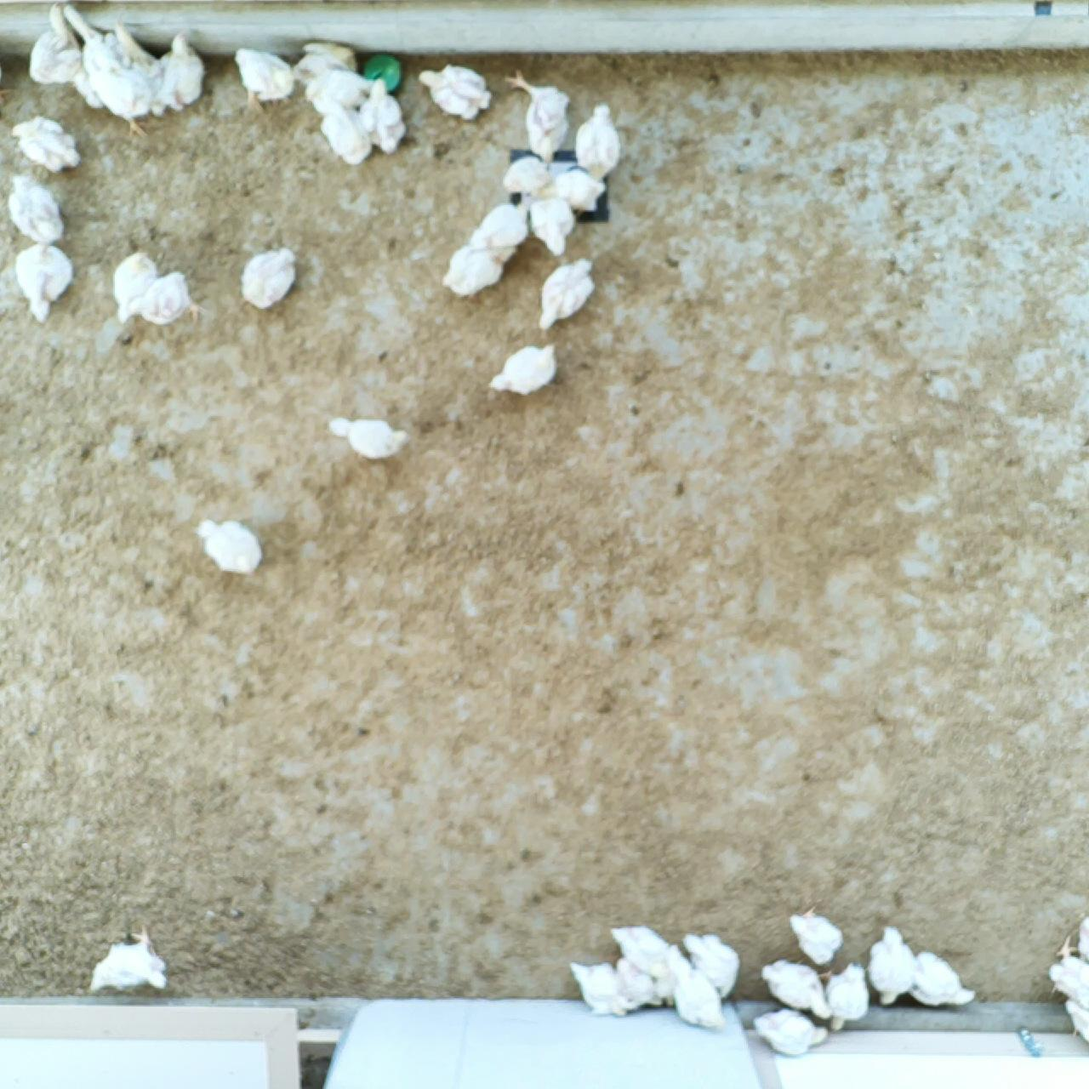chicken: (499, 66, 573, 169), (78, 920, 178, 996), (74, 61, 165, 136), (116, 265, 210, 335), (662, 944, 730, 1031), (415, 56, 497, 127), (10, 237, 76, 322), (437, 240, 521, 304), (759, 956, 838, 1024), (230, 42, 299, 117), (535, 256, 599, 336), (903, 947, 978, 1015), (109, 20, 165, 110), (154, 25, 210, 115), (4, 112, 83, 175), (679, 923, 744, 998), (488, 340, 565, 403), (237, 240, 301, 315), (358, 76, 415, 160), (27, 0, 81, 88), (2, 172, 66, 246), (192, 516, 267, 579), (865, 919, 918, 1008), (317, 88, 376, 167), (327, 411, 414, 463), (294, 57, 376, 111), (533, 161, 612, 217), (571, 101, 623, 185), (754, 1006, 836, 1059), (58, 1, 124, 66), (784, 898, 845, 966), (606, 921, 675, 978), (1043, 927, 1089, 1011), (826, 956, 875, 1032), (567, 952, 626, 1015), (467, 202, 533, 257), (527, 191, 581, 258), (288, 38, 364, 80), (112, 249, 160, 315), (610, 952, 663, 1009), (496, 148, 556, 198), (1062, 993, 1089, 1047), (1074, 915, 1089, 961)
